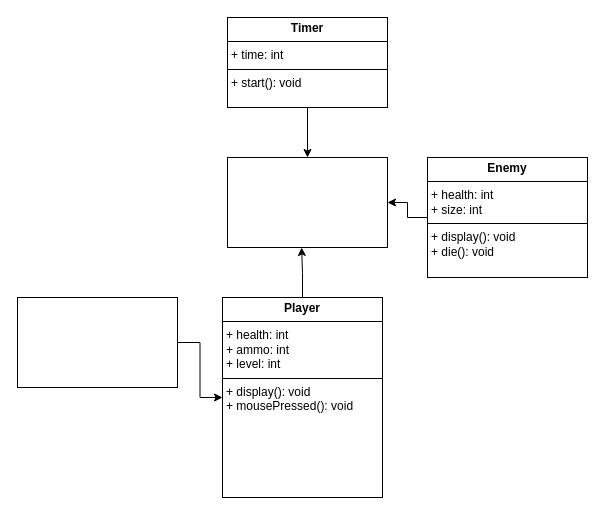
Some shapes in this 605 by 515 pixel diagram are drawn without their labels. The box of each missing label's shape, as (x1, y1, x2, y2) in pixels:
PixelPeril + score: int + level: int + method(): Type: (226, 156, 388, 248)
Upgrade + type: string + upgradeLevel(): void: (16, 296, 178, 388)
